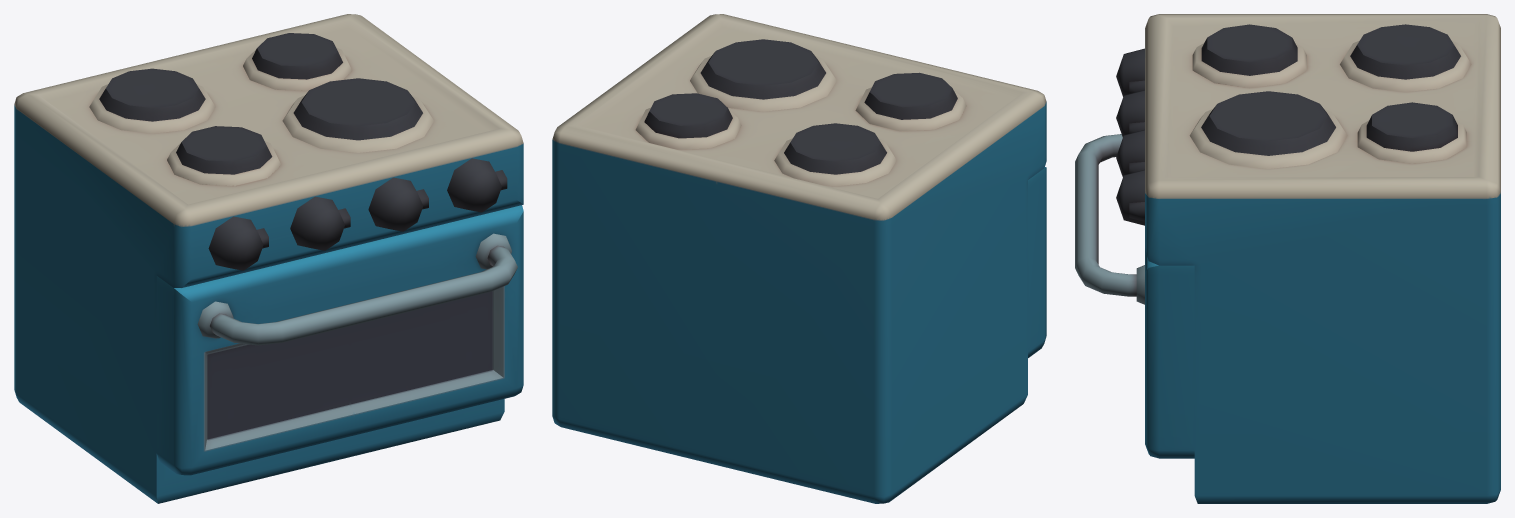
File: stove_01.fbx
3 views of the same model, side by side, from view 1: azimuth 30°, elevation 25°; view 2: azimuth 150°, elevation 25°; view 3: azimuth 270°, elevation 25° (orthographic). The views are drawn at different scales.
Parts seen in each view (by area): view 1: stove_01_ready; view 2: stove_01_ready; view 3: stove_01_ready.
Part boxes in pixels (x1,y1,x2,y2): stove_01_ready: (14, 14, 523, 503); stove_01_ready: (552, 14, 1046, 503); stove_01_ready: (1075, 14, 1500, 503).
Size of the model in its own units: 100 by 88.63 by 102.
